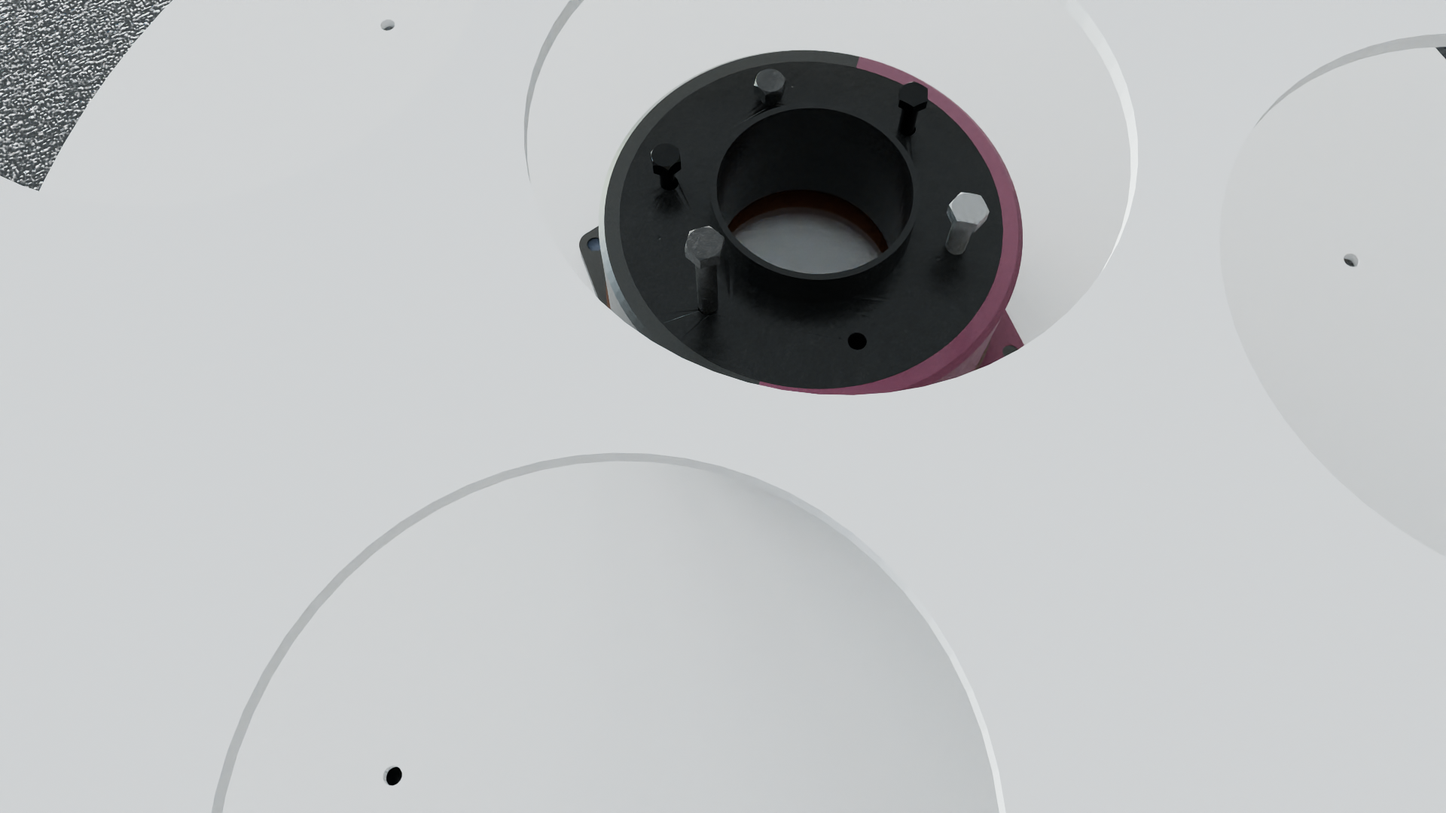bolt: (685, 226, 725, 261), (949, 192, 990, 224), (754, 69, 786, 96), (651, 143, 681, 170), (900, 81, 928, 107)
